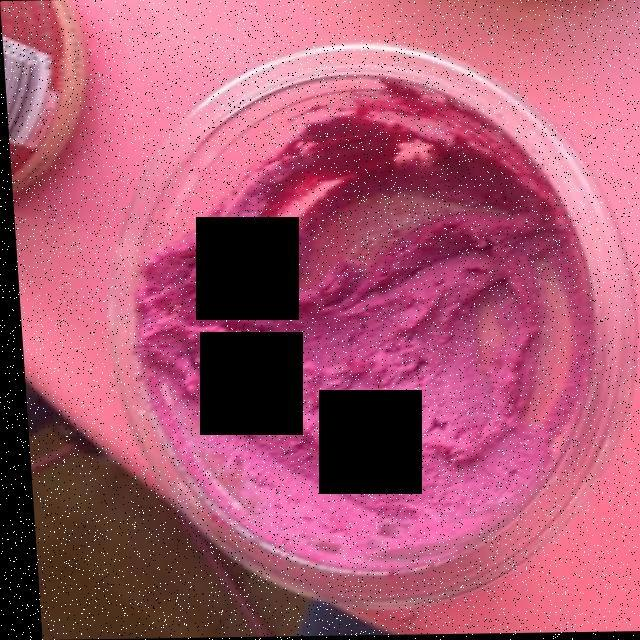hummus: (131, 108, 586, 572)
